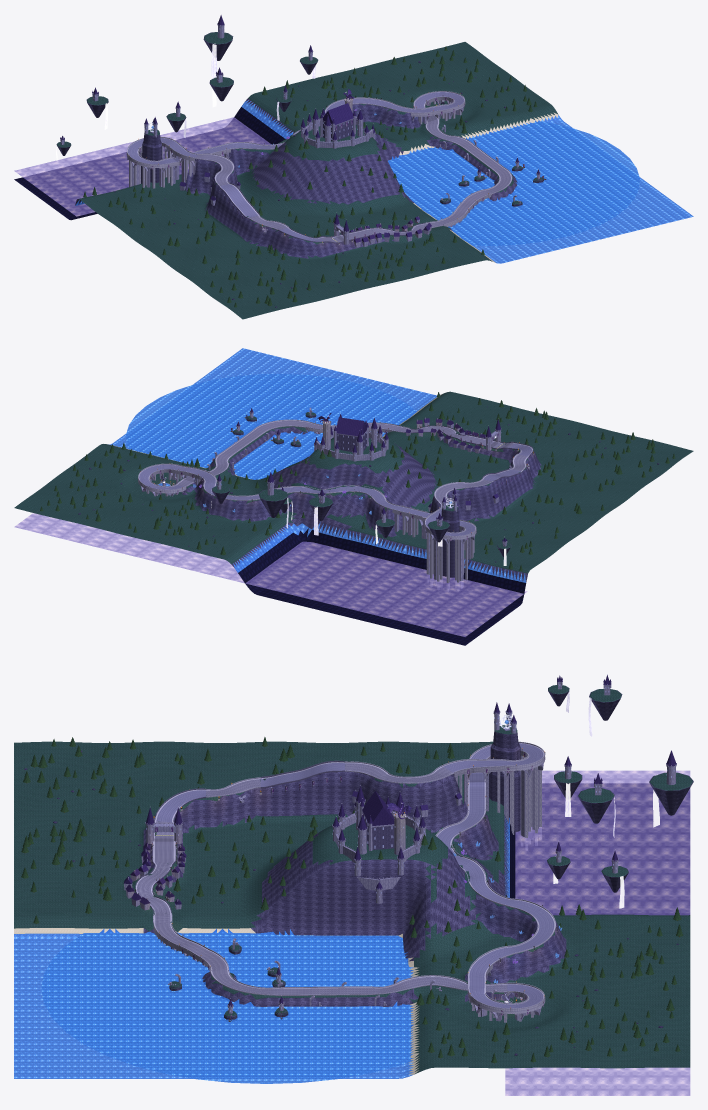
3 renders of one model, top to bottom at view 1: azimuth 30°, elevation 25°; view 2: azimuth 150°, elevation 25°; view 3: azimuth 270°, elevation 25°, orthographic. The views are drawn at different scales.
Parts seen in each view (by area): view 1: Land, Lagoon, Chasm Clouds, Palace both 0 0, Islands visual 0 0, Nature both 1 1, Road 12 high_bridge, Road 07 high_bridge, Nature both -1 -1, Road 08 high, Nature both -1 0, Nature both 0 0 (+10 smaller); view 2: Land, Chasm Clouds, Lagoon, Palace both 0 0, Islands visual 0 0, Road 12 high_bridge Piers, Road 08 high, Nature both 1 1, Road 07 high_bridge, Nature both -1 -1, Observatory Pinnacle, Nature both -1 0 (+7 smaller); view 3: Land, Lagoon, Chasm Clouds, Palace both 0 0, Islands visual 0 0, Road 08 high, Nature both 1 1, Road 07 high_bridge, Nature both -1 -1, Road 12 high_bridge, Observatory Pinnacle, Road 12 high_bridge Piers (+14 smaller).
Part boxes in pixels (x1,y1,x2,y2): Land: [14, 42, 693, 319]; Lagoon: [388, 121, 639, 245]; Chasm Clouds: [14, 117, 270, 216]; Palace both 0 0: [300, 98, 375, 148]; Islands visual 0 0: [56, 32, 318, 155]; Nature both 1 1: [321, 55, 532, 140]; Road 12 high_bridge: [126, 136, 198, 167]; Road 07 high_bridge: [410, 91, 465, 116]; Nature both -1 -1: [210, 252, 381, 307]; Road 08 high: [225, 97, 411, 149]; Nature both -1 0: [129, 180, 321, 272]; Nature both 0 0: [268, 126, 407, 234]; Land: [14, 348, 693, 645]; Chasm Clouds: [14, 513, 527, 636]; Lagoon: [126, 373, 416, 479]; Palace both 0 0: [314, 413, 388, 460]; Islands visual 0 0: [212, 485, 511, 556]; Road 12 high_bridge Piers: [426, 532, 474, 591]; Road 08 high: [201, 474, 398, 509]; Nature both 1 1: [56, 443, 259, 535]; Road 07 high_bridge: [138, 463, 211, 493]; Nature both -1 -1: [525, 411, 675, 477]; Observatory Pinnacle: [439, 505, 459, 583]; Nature both -1 0: [422, 454, 614, 538]; Land: [14, 741, 690, 1078]; Lagoon: [41, 933, 410, 1083]; Chasm Clouds: [505, 770, 690, 1095]; Palace both 0 0: [332, 785, 406, 903]; Islands visual 0 0: [547, 685, 693, 892]; Road 08 high: [435, 809, 555, 964]; Nature both 1 1: [416, 936, 654, 1052]; Road 07 high_bridge: [467, 958, 545, 1013]; Nature both -1 -1: [23, 737, 163, 845]; Road 12 high_bridge: [441, 741, 545, 782]; Observatory Pinnacle: [489, 725, 520, 839]; Road 12 high_bridge Piers: [456, 756, 541, 850].
Size of the model in its own units: 842 by 218 by 724.
28 materials, 28 textured.
